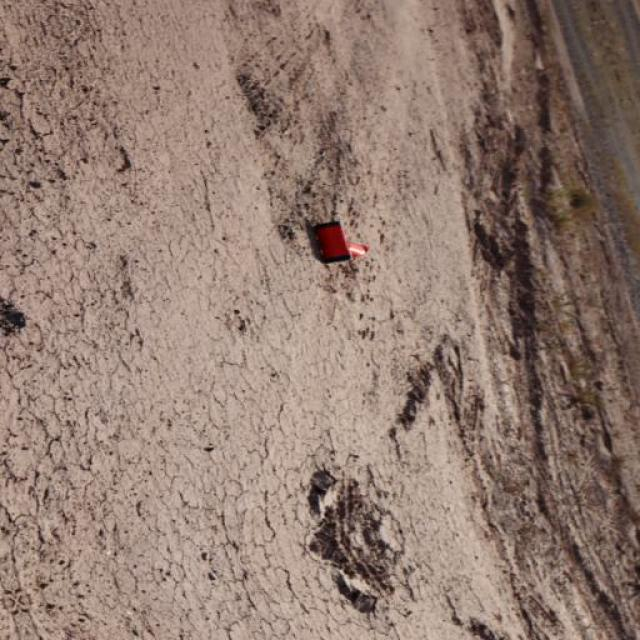mallet: (311, 219, 369, 265)
